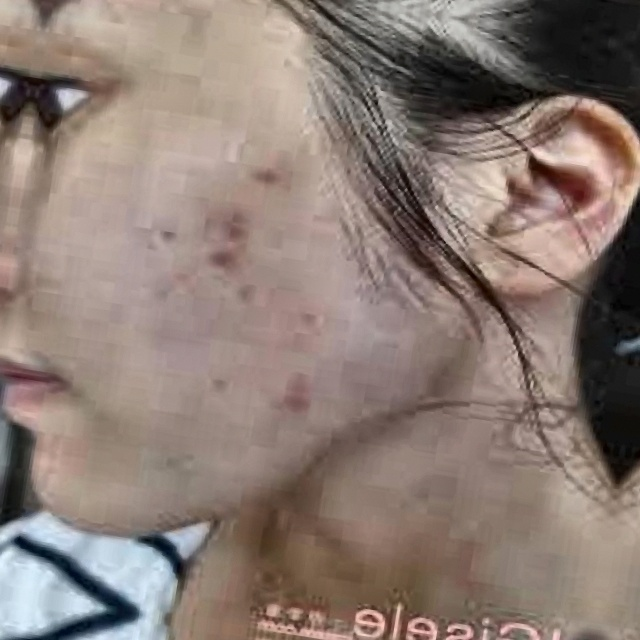comedone: (253, 372, 320, 433), (200, 198, 278, 246), (200, 238, 265, 287), (235, 148, 296, 194)
